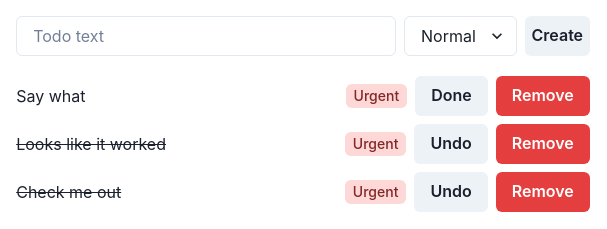
Test: Index page › should mark the first todo as done
The width and height of the screenshot is (607, 229).
Click the button "Done".
click(451, 96)  # box [415,76,488,116]
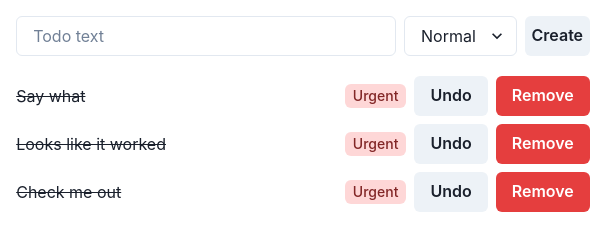
Result: the button "Done" is gone
